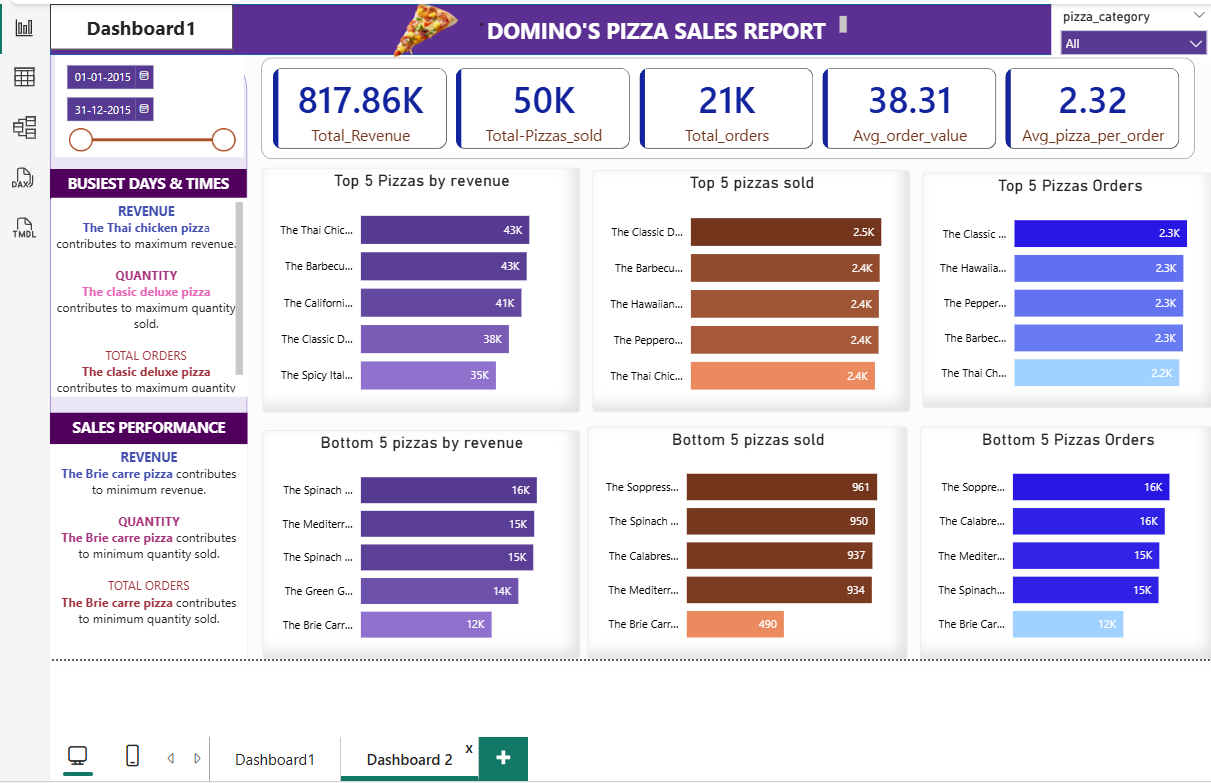

Layout of this report page (visuals, bound fields, positions):
{"tool":"powerbi","page":{"name":" Dashboard 2","canvas":[1280,720],"ordinal":1},"visuals":[{"type":"textbox","box":[0,345.8,216.8,13.7],"z":0},{"type":"cardVisual","fields":{"Data":["pizza_data.Total_Revenue","pizza_data.Total-Pizzas_sold","pizza_data.Total_orders","pizza_data.Avg_order_value","pizza_data.Avg_pizza_perorder"]},"box":[232.5,58.8,1025,111.2],"z":1000},{"type":"shape","box":[0,42.5,216.8,677.9],"z":2000},{"type":"shape","box":[0,0,1478.8,56.2],"z":3000},{"type":"textbox","box":[441.2,8.8,437.5,40],"z":4000},{"type":"actionButton","box":[0,0,100,40],"z":5000},{"type":"textbox","box":[0,181.4,215.7,32.9],"z":6000},{"type":"textbox","box":[1.4,212.9,215.7,218.6],"z":7000},{"type":"textbox","box":[0,482.9,217.1,237.1],"z":8000},{"type":"textbox","box":[0,448.6,217.1,34.3],"z":9000},{"type":"slicer","fields":{"Values":["pizza_data.pizza_category"]},"box":[1098.6,0,181.4,58.6],"z":10000},{"type":"slicer","fields":{"Values":["pizza_data.order_date"]},"box":[5,56.2,206.2,111.2],"z":11000},{"type":"barChart","title":"Top 5 Pizzas by revenue","fields":{"Y":["pizza_data.Total_Revenue"],"Category":["pizza_data.pizza_name"]},"box":[232.9,180,348.6,268.6],"z":12000},{"type":"barChart","title":"Top 5 pizzas sold","fields":{"Y":["pizza_data.Total-Pizzas_sold"],"Category":["pizza_data.pizza_name"]},"box":[595.7,182.9,348.6,265.7],"z":13000},{"type":"barChart","title":"Bottom 5 pizzas by revenue","fields":{"Y":["pizza_data.Total_Revenue"],"Category":["pizza_data.pizza_name"]},"box":[232.9,468.6,348.6,251.4],"z":14000},{"type":"barChart","title":"Bottom 5 pizzas sold","fields":{"Y":["pizza_data.Total-Pizzas_sold"],"Category":["pizza_data.pizza_name"]},"box":[590,464.3,351.4,255.7],"z":15000},{"type":"barChart","title":"Top 5 Pizzas Orders","fields":{"Y":["pizza_data.Total_orders"],"Category":["pizza_data.pizza_name"]},"box":[957.1,185.7,322.9,258.6],"z":16000},{"type":"barChart","title":"Bottom 5 Pizzas Orders","fields":{"Y":["pizza_data.Total_Revenue"],"Category":["pizza_data.pizza_name"]},"box":[955.7,464.3,324.3,255.7],"z":17000},{"type":"image","box":[352.9,0,120,58.6],"z":18000},{"type":"pageNavigator","box":[0,0,201.4,50],"z":19000}]}

Visuals, with their boxes on the page's 1280x720 design canvas (x1, y1, x2, y2). These are canvas units, not pixel positions in the 1211x783 screenshot, which may show the page scaled, cropped or inside an application window:
textbox: bbox=[0, 346, 217, 360]
cardVisual - pizza_data.Total_Revenue x pizza_data.Total-Pizzas_sold: bbox=[232, 59, 1258, 170]
shape: bbox=[0, 42, 217, 720]
shape: bbox=[0, 0, 1479, 56]
textbox: bbox=[441, 9, 879, 49]
actionButton: bbox=[0, 0, 100, 40]
textbox: bbox=[0, 181, 216, 214]
textbox: bbox=[1, 213, 217, 432]
textbox: bbox=[0, 483, 217, 720]
textbox: bbox=[0, 449, 217, 483]
slicer - pizza_data.pizza_category: bbox=[1099, 0, 1280, 59]
slicer - pizza_data.order_date: bbox=[5, 56, 211, 167]
"Top 5 Pizzas by revenue" barChart: bbox=[233, 180, 582, 449]
"Top 5 pizzas sold" barChart: bbox=[596, 183, 944, 449]
"Bottom 5 pizzas by revenue" barChart: bbox=[233, 469, 582, 720]
"Bottom 5 pizzas sold" barChart: bbox=[590, 464, 941, 720]
"Top 5 Pizzas Orders" barChart: bbox=[957, 186, 1280, 444]
"Bottom 5 Pizzas Orders" barChart: bbox=[956, 464, 1280, 720]
image: bbox=[353, 0, 473, 59]
pageNavigator: bbox=[0, 0, 201, 50]
